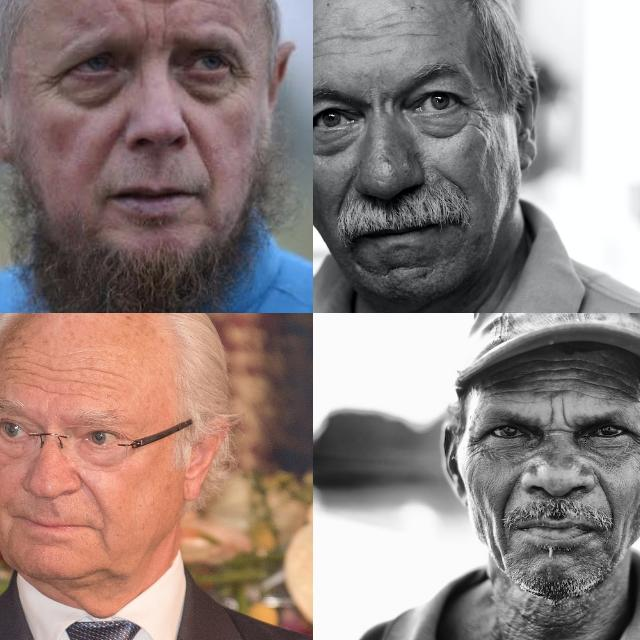chin: (378, 260, 417, 280)
crows_feet: (28, 64, 66, 98), (226, 58, 258, 94), (467, 433, 491, 457), (630, 427, 640, 462)
forehead: (6, 341, 50, 394), (64, 363, 112, 405), (556, 352, 594, 391), (600, 363, 632, 403), (326, 23, 374, 49), (524, 356, 550, 382), (399, 28, 446, 42), (382, 12, 414, 30), (491, 369, 513, 395), (313, 47, 341, 66)
frown_line: (542, 398, 572, 436), (141, 15, 171, 50), (462, 94, 486, 126)
gummy_smile: (98, 114, 134, 168), (180, 115, 208, 167), (495, 478, 521, 528), (81, 470, 109, 512), (596, 477, 620, 519), (332, 176, 353, 218), (439, 170, 469, 198)
masseter: (486, 534, 506, 566), (0, 484, 7, 536)
